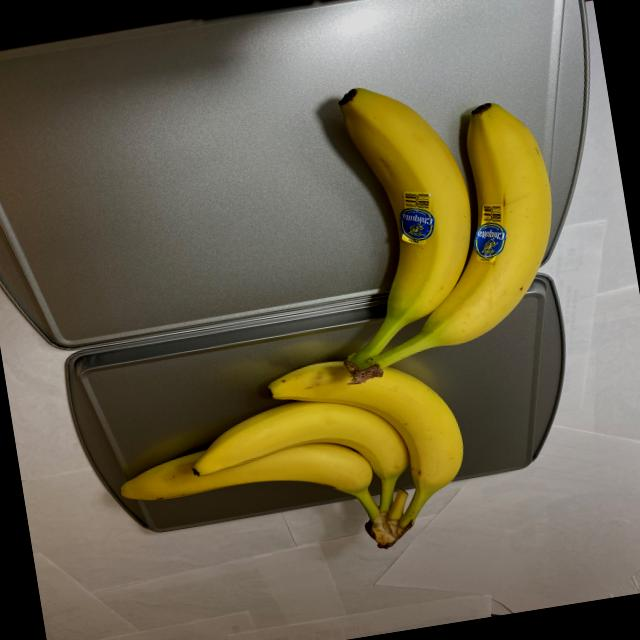banana: (100, 335, 480, 589), (298, 52, 582, 386)
